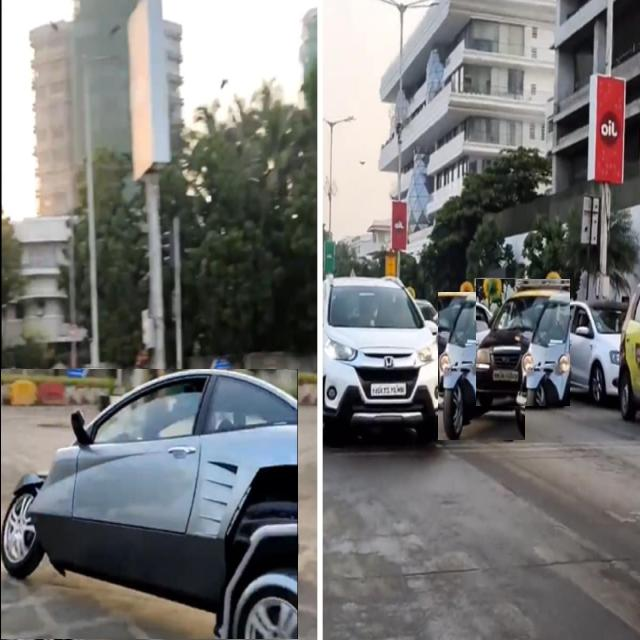accident: (1, 370, 298, 639)
autorickshaw: (438, 293, 525, 440)
car: (322, 278, 448, 442), (476, 280, 570, 406), (555, 300, 628, 403)
